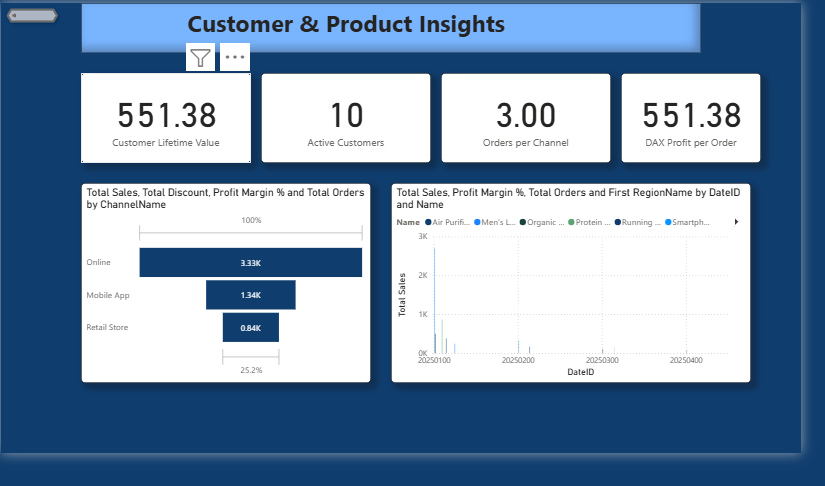

Layout of this report page (visuals, bound fields, positions):
{"tool":"powerbi","page":{"name":"Customer & Product Insights","canvas":[1280,720],"ordinal":3},"visuals":[{"type":"textbox","box":[128,0,992,80],"z":0},{"type":"card","fields":{"Values":["dim_channel.Customer Lifetime Value"]},"box":[128,112,272,144],"z":1000},{"type":"card","fields":{"Values":["dim_channel.Active Customers"]},"box":[416,112,272,144],"z":2000},{"type":"card","fields":{"Values":["dim_channel.Orders per Channel"]},"box":[704,112,272,144],"z":3000},{"type":"card","fields":{"Values":["dim_channel.DAX Profit per Order"]},"box":[992,112,224,144],"z":4000},{"type":"funnel","fields":{"Category":["dim_channel.ChannelName"],"Y":["dim_fact.Total Sales"]},"box":[128,288,464,320],"z":5000},{"type":"ribbonChart","fields":{"Category":["dim_date.DateID"],"Y":["dim_fact.Total Sales"],"Series":["dim_product.Name"]},"box":[624,288,576,320],"z":6000},{"type":"actionButton","box":[0,0,100,40],"z":6001}]}

Visuals, with their boxes in screenshot pixels (x1, y1, x2, y2):
textbox: [left=81, top=4, right=689, bottom=53]
card - dim_channel.Customer Lifetime Value: [left=81, top=73, right=247, bottom=161]
card - dim_channel.Active Customers: [left=257, top=73, right=424, bottom=161]
card - dim_channel.Orders per Channel: [left=434, top=73, right=601, bottom=161]
card - dim_channel.DAX Profit per Order: [left=610, top=73, right=748, bottom=161]
funnel - dim_channel.ChannelName x dim_fact.Total Sales: [left=81, top=181, right=365, bottom=377]
ribbonChart - dim_date.DateID x dim_fact.Total Sales: [left=385, top=181, right=738, bottom=377]
actionButton: [left=2, top=4, right=63, bottom=29]
